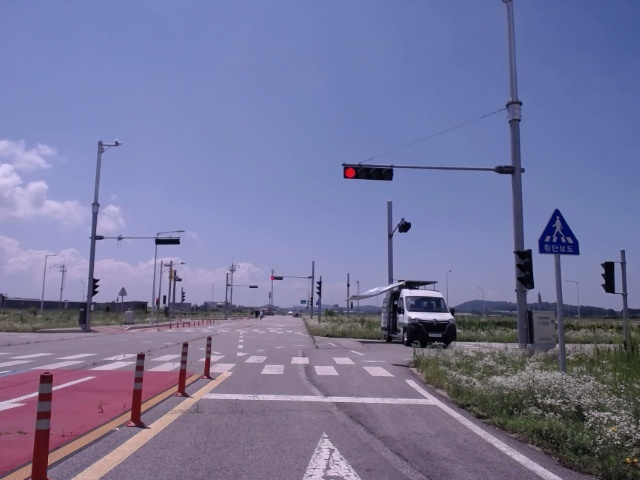red_4: (344, 167, 392, 181)
